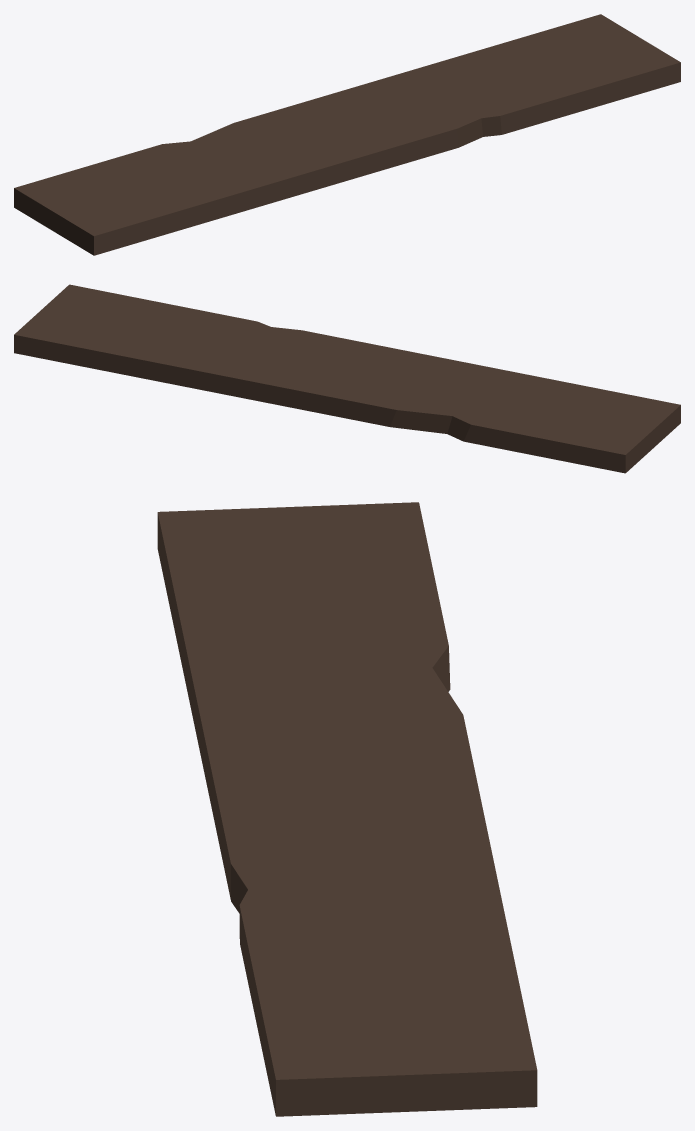
Rendered from Board 2.fbx.
The picture shows the model from 3 angles, top to bottom: view 1: azimuth 30°, elevation 25°; view 2: azimuth 150°, elevation 25°; view 3: azimuth 270°, elevation 25°; orthographic projection. The views are drawn at different scales.
Visible parts, largest first — view 1: Board 2; view 2: Board 2; view 3: Board 2.
Boxes of the visible parts, box(x1,y1,x2,y2) form: Board 2: box(14, 14, 680, 255); Board 2: box(14, 284, 680, 473); Board 2: box(157, 502, 537, 1116).
Bounding box in the file's own units: 182 × 50.48 × 5.4.
